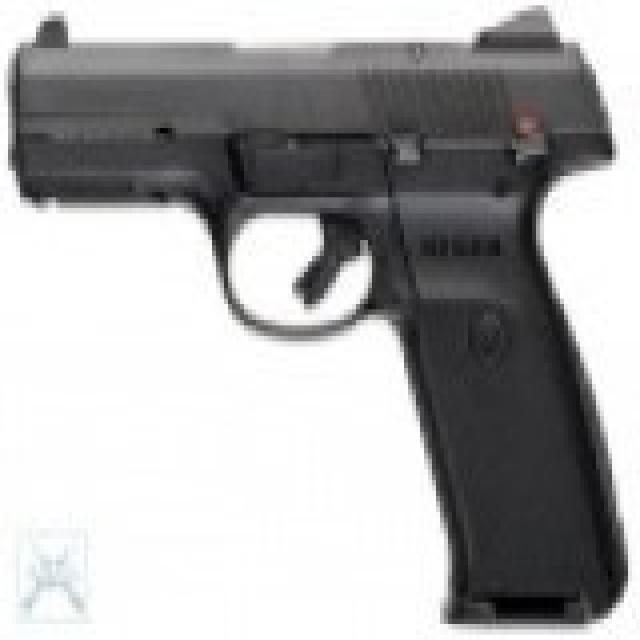gun: (3, 11, 640, 638)
